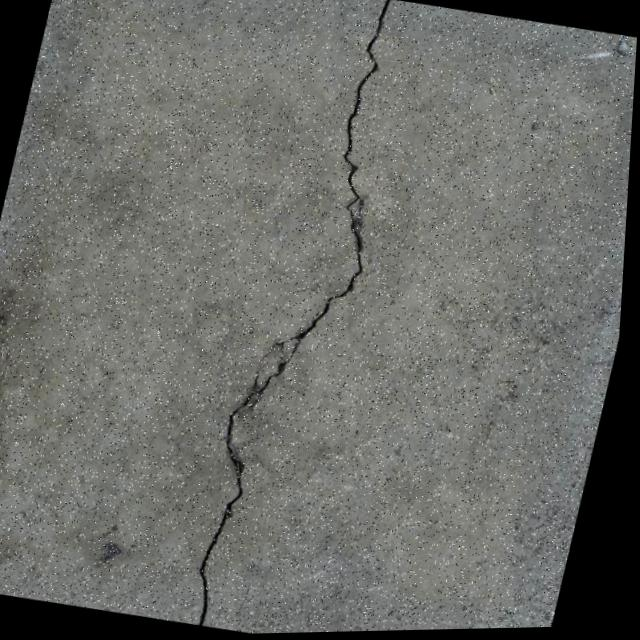Crack: (168, 0, 437, 637)
